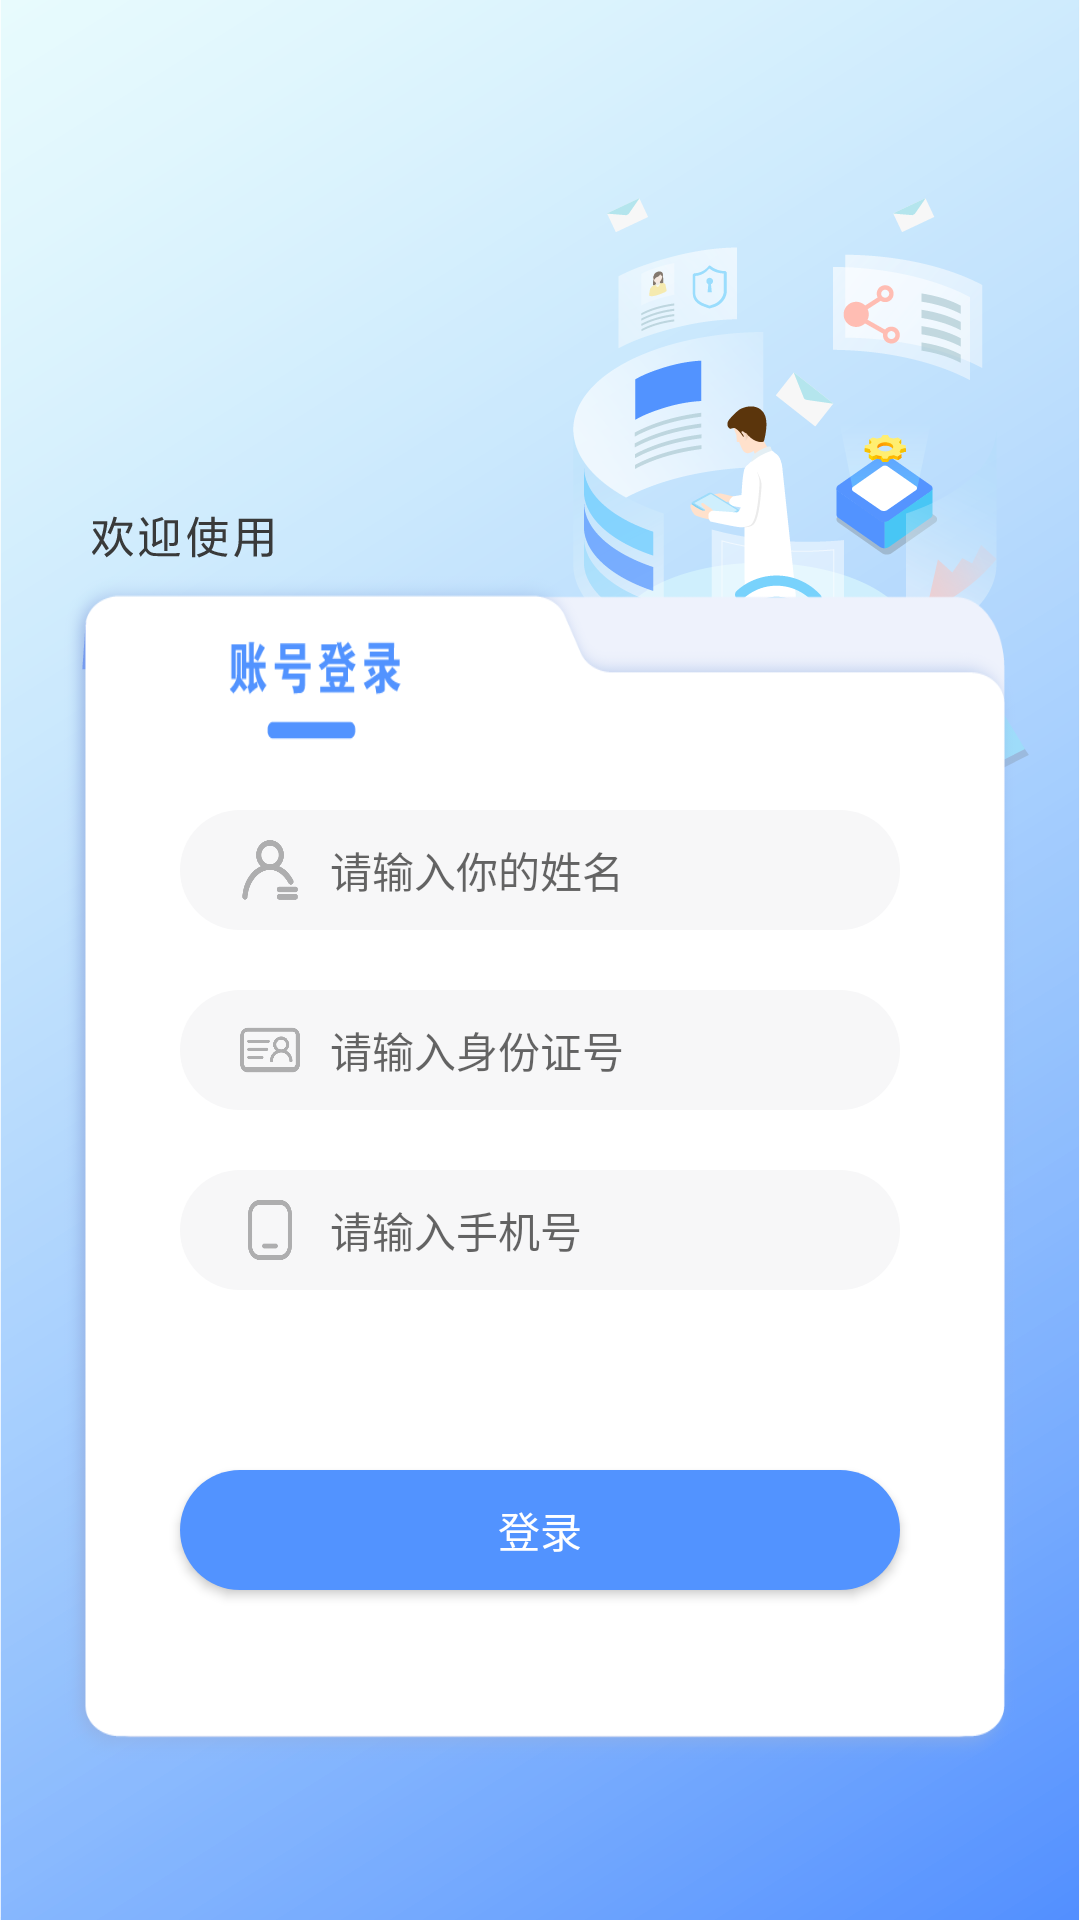

Icon bounding boxes for this 1080 x 1920 phone screenshot, format (x1, y1, x2, y2):
login id iv: (240, 1028, 300, 1072)
login name iv: (242, 840, 298, 900)
login phone iv: (248, 1200, 292, 1260)
